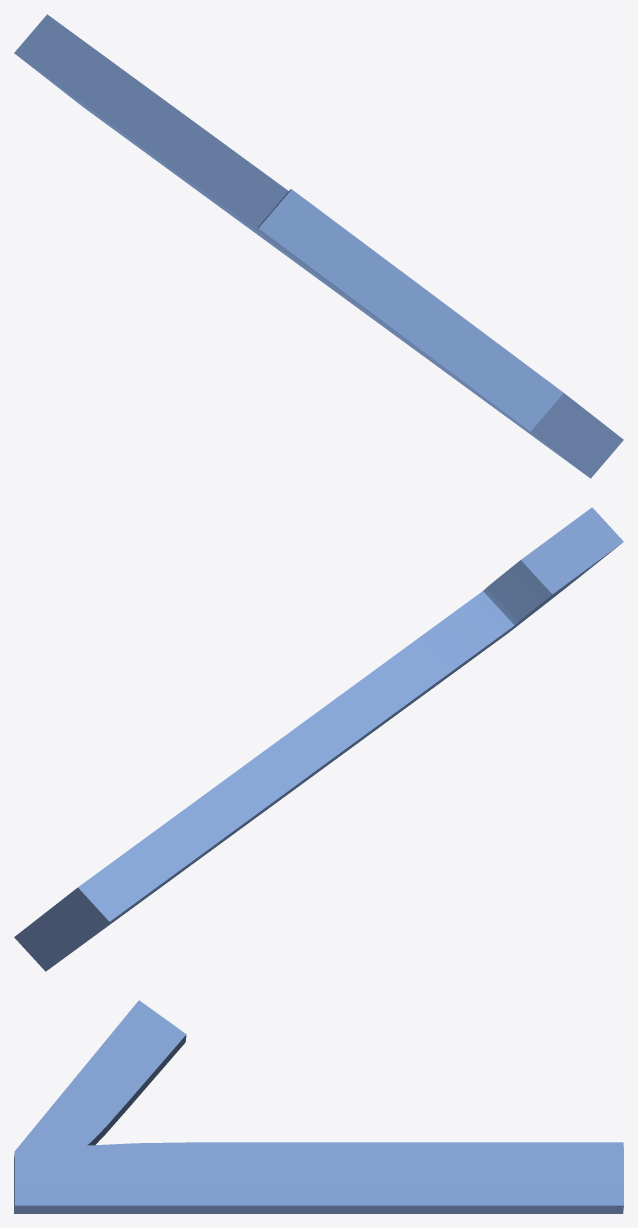
The model's file is New_Number_1.gltf.
3 views of the same model, one above another, from view 1: azimuth 30°, elevation 25°; view 2: azimuth 150°, elevation 25°; view 3: azimuth 270°, elevation 25° (orthographic). The views are drawn at different scales.
Visible parts, largest first — view 1: Part 253; view 2: Part 253; view 3: Part 253.
Part boxes in pixels (box(x1,y1,x2,y2)): Part 253: box(14, 14, 623, 478); Part 253: box(14, 507, 623, 971); Part 253: box(14, 1000, 623, 1213).
Bounding box in the file's own units: 0.00151 × 0.00143 × 0.00505.
